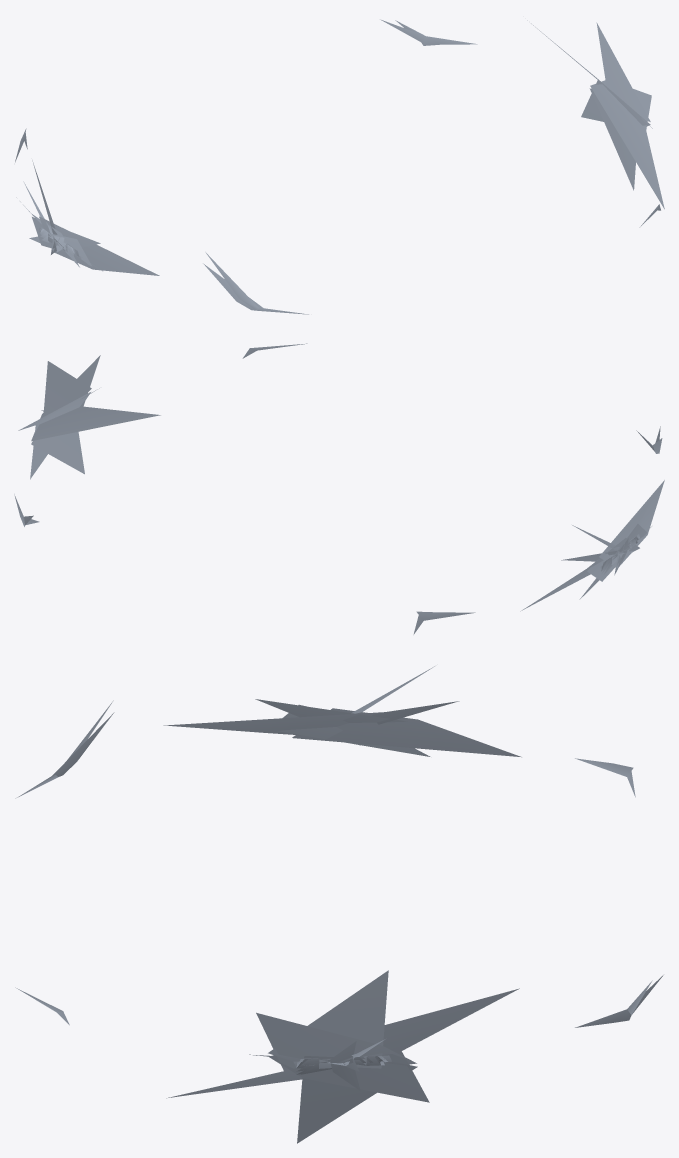
The model's file is stage4.glb.
3 views of the same model, one above another, from view 1: azimuth 30°, elevation 25°; view 2: azimuth 150°, elevation 25°; view 3: azimuth 270°, elevation 25° (orthographic). The views are drawn at different scales.
Visible parts, largest first — view 1: dsf-4-structural; view 2: dsf-4-structural; view 3: dsf-4-structural.
Boxes of the visible parts, left/top/right/bottom form: dsf-4-structural: left=15, top=19, right=664, bottom=314; dsf-4-structural: left=14, top=343, right=664, bottom=634; dsf-4-structural: left=15, top=666, right=663, bottom=1143.
Size of the model in its own units: 2 by 0.477 by 1.62.
